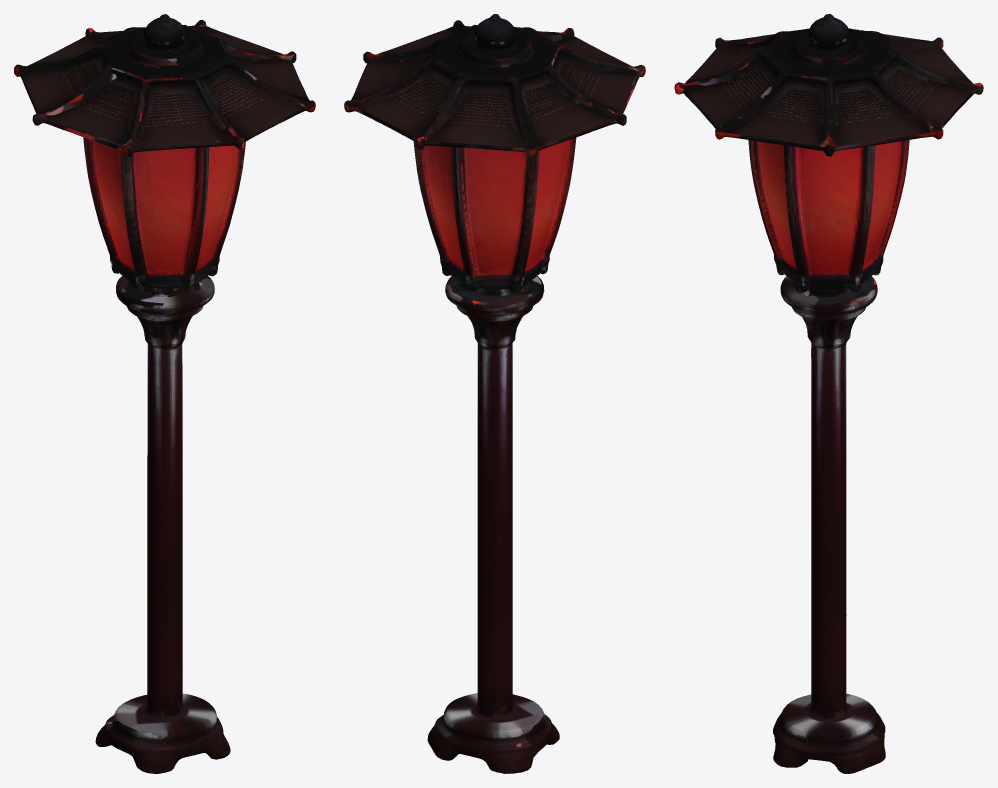
File: traveler_env_coast_bayushi_scarlet_lantern_00001_.glb
The picture shows the model from 3 angles, left to right: view 1: azimuth 30°, elevation 25°; view 2: azimuth 150°, elevation 25°; view 3: azimuth 270°, elevation 25°; orthographic projection.
Parts seen in each view (by area): view 1: temp_mesh.ply; view 2: temp_mesh.ply; view 3: temp_mesh.ply.
Boxes of the visible parts, x1,y1,x2,y2 form: temp_mesh.ply: (14, 14, 315, 773); temp_mesh.ply: (344, 14, 645, 773); temp_mesh.ply: (674, 14, 983, 773).
Bounding box in the file's own units: 0.7428 × 1.97 × 0.7558.
1 material, 1 textured.
